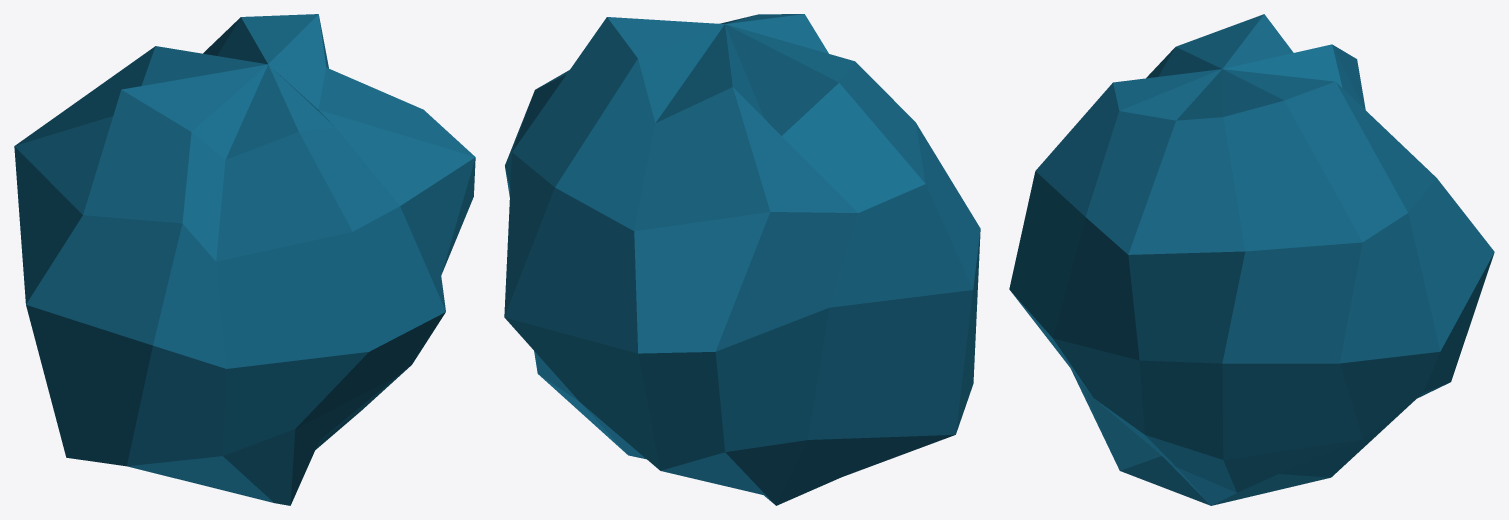
The model's file is BlueObject.obj.
The picture shows the model from 3 angles, left to right: view 1: azimuth 30°, elevation 25°; view 2: azimuth 150°, elevation 25°; view 3: azimuth 270°, elevation 25°; orthographic projection. The views are drawn at different scales.
Visible parts, largest first — view 1: Sphere; view 2: Sphere; view 3: Sphere.
Boxes of the visible parts, bbox=[...] form: Sphere: bbox=[14, 14, 475, 505]; Sphere: bbox=[504, 14, 980, 505]; Sphere: bbox=[1009, 14, 1494, 505].
Bounding box in the file's own units: 225 × 211 × 205.
